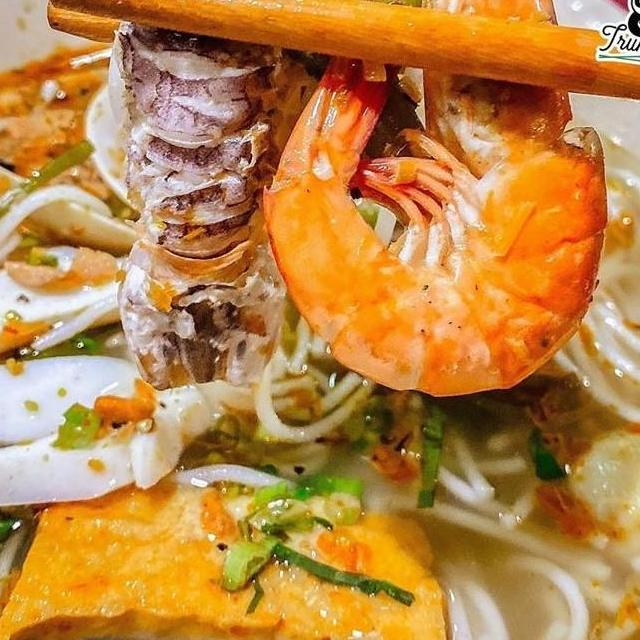bun: (386, 422, 640, 640), (543, 148, 640, 454), (0, 74, 119, 290)
bun hai san: (0, 0, 640, 640)
dau hu: (0, 465, 459, 640)
muc: (0, 348, 237, 534)
tom: (251, 0, 616, 402)
tom tit: (99, 0, 385, 397)
